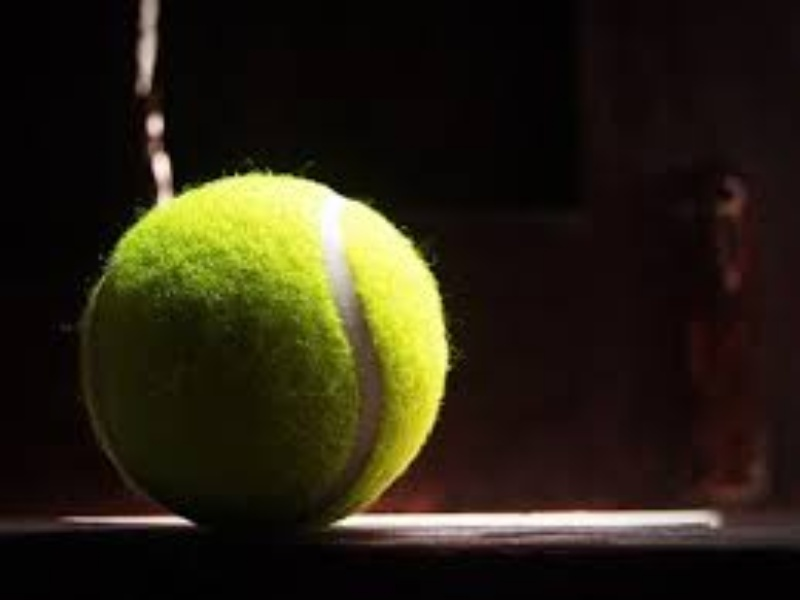tennis ball: (58, 139, 471, 560)
